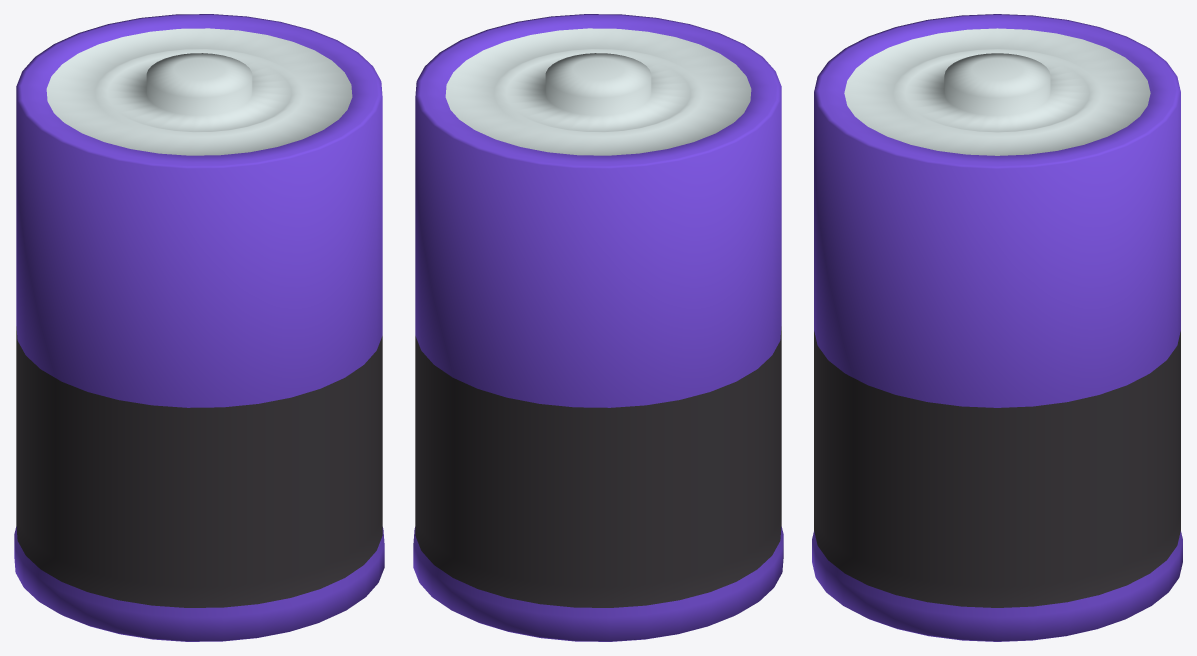
File: battery.fbx
3 renders of one model, left to right at view 1: azimuth 30°, elevation 25°; view 2: azimuth 150°, elevation 25°; view 3: azimuth 270°, elevation 25°, orthographic.
Parts seen in each view (by area): view 1: Cylinder; view 2: Cylinder; view 3: Cylinder.
Boxes of the visible parts, x1,y1,x2,y2 form: Cylinder: (14,14,384,641); Cylinder: (413,14,783,641); Cylinder: (812,14,1182,641).
Size of the model in its own units: 70.79 by 106 by 70.79.
